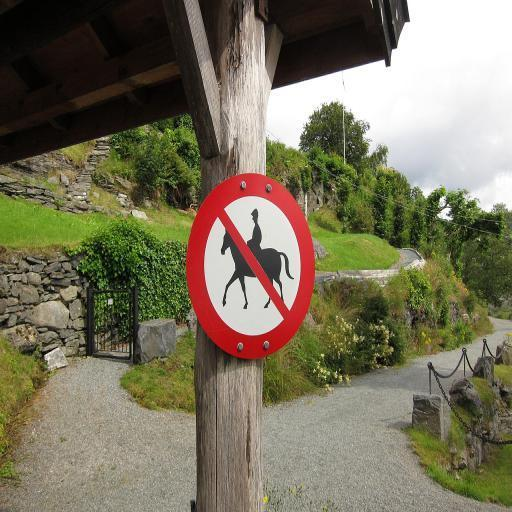horse: (221, 230, 294, 308)
